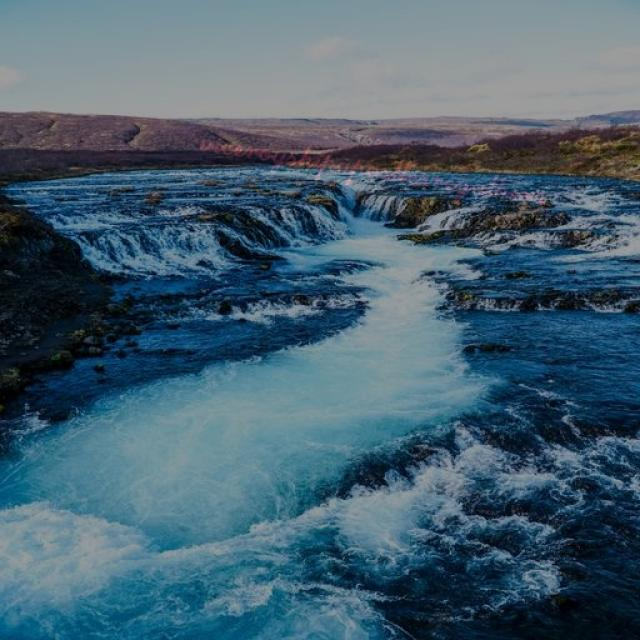watermark: (191, 125, 568, 209)
